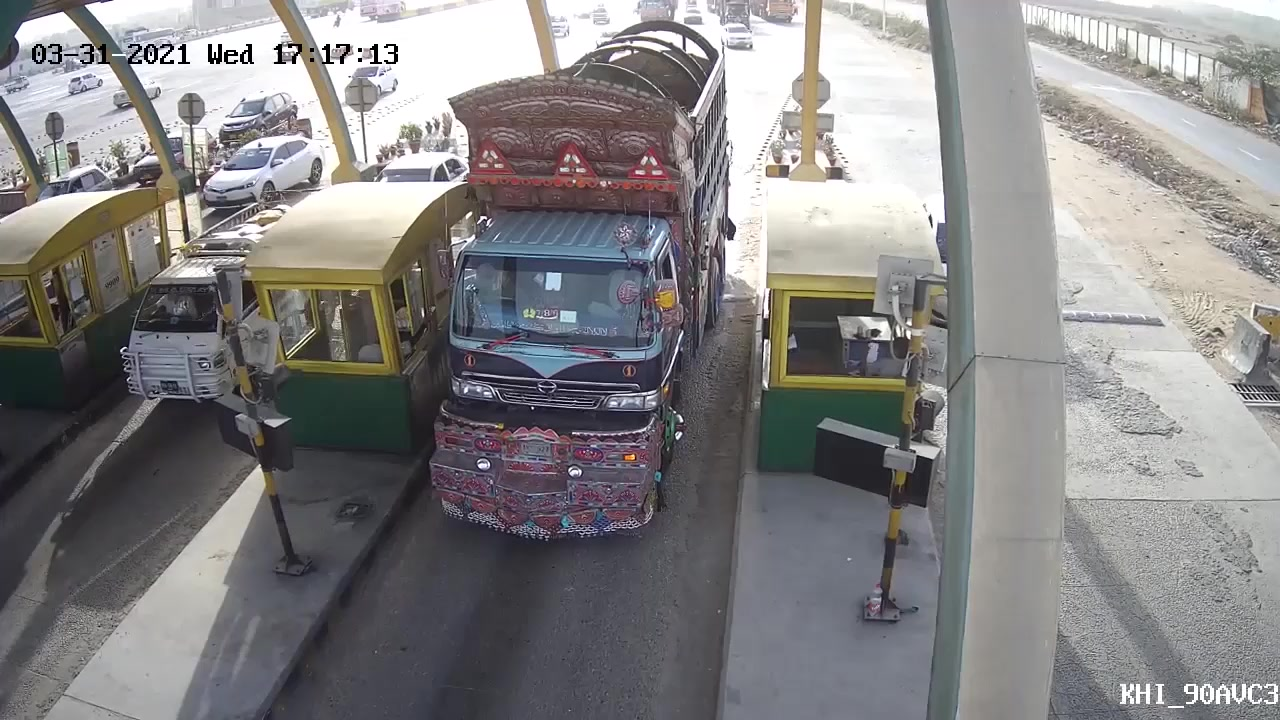F6: (405, 75, 691, 538)
